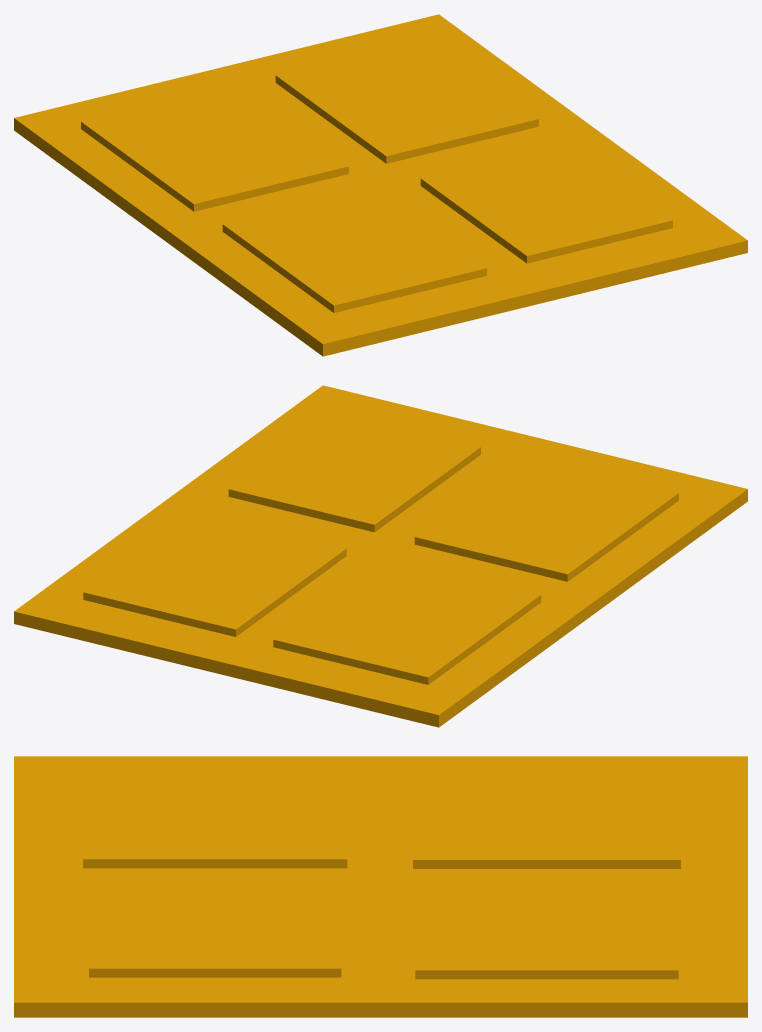
Rendered from plano-interfaz2.fbx.
3 views of the same model, one above another, from view 1: azimuth 30°, elevation 25°; view 2: azimuth 150°, elevation 25°; view 3: azimuth 270°, elevation 25° (orthographic). The views are drawn at different scales.
Visible parts, largest first — view 1: Cube; view 2: Cube; view 3: Cube.
Boxes of the visible parts, bbox=[...] form: Cube: bbox=[14, 14, 747, 356]; Cube: bbox=[14, 385, 747, 727]; Cube: bbox=[14, 756, 747, 1017].
Size of the model in its own units: 1163 by 52.41 by 1465.
